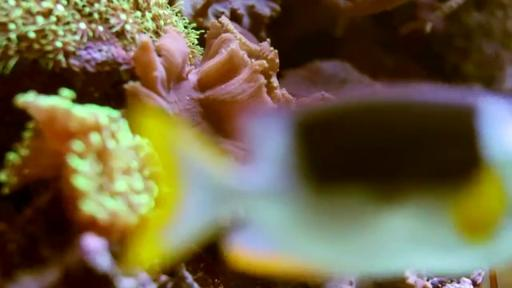Fish: (120, 84, 511, 279)
